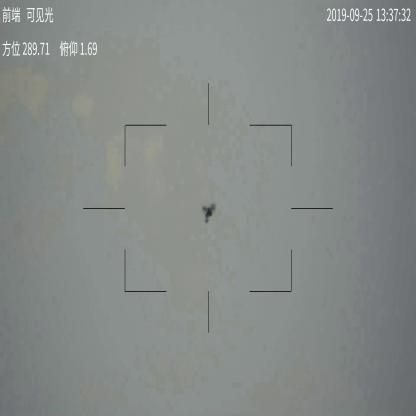uav: (202, 200, 218, 225)
